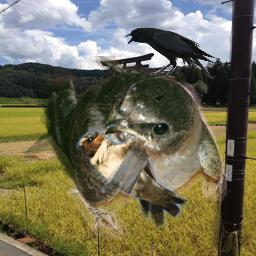Crow: (124, 27, 219, 79)
Swallow: (19, 56, 227, 242), (76, 129, 188, 228)
